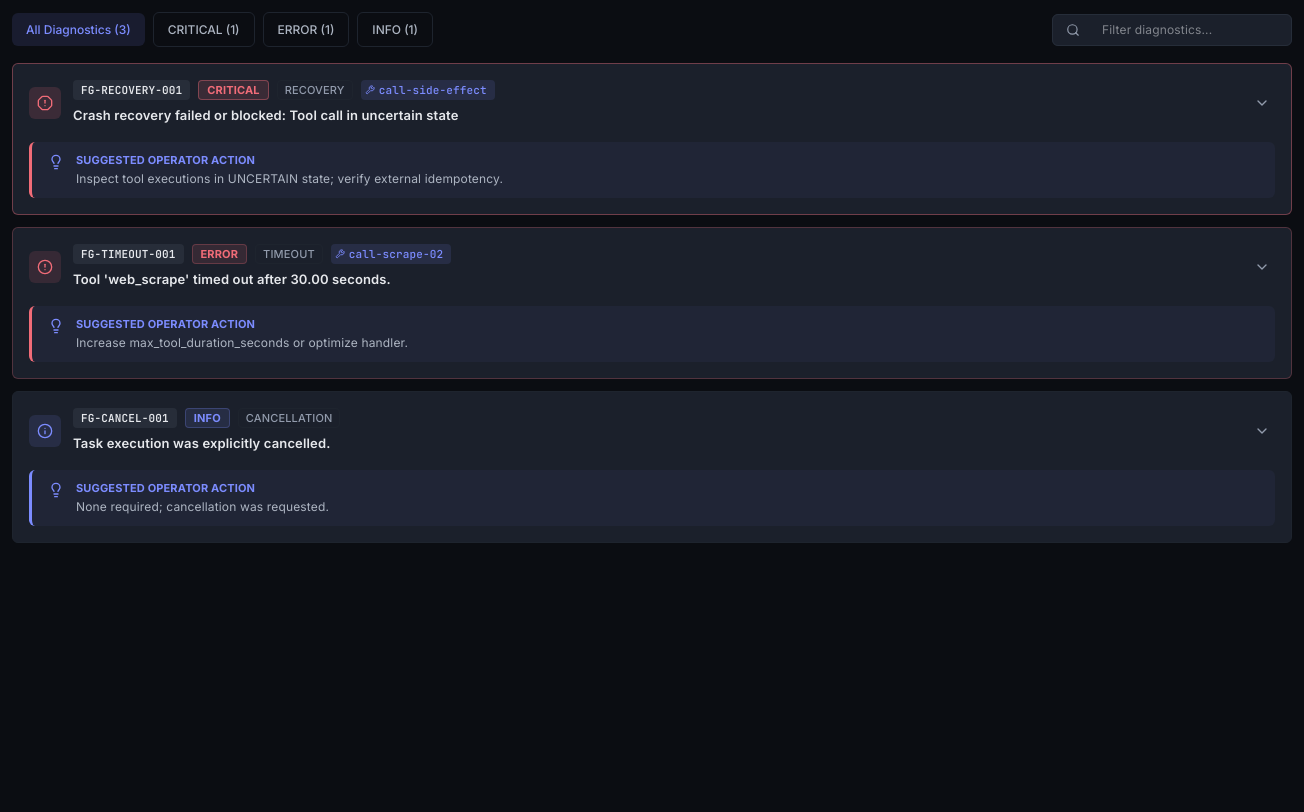
Test: FailureDiagnosticsCard Component › expands diagnostic payload forensics details upon click
Click the button named "Expand diagnostic details" in the row of "call-side-effect": (1262,103) [1249,90,1275,116]
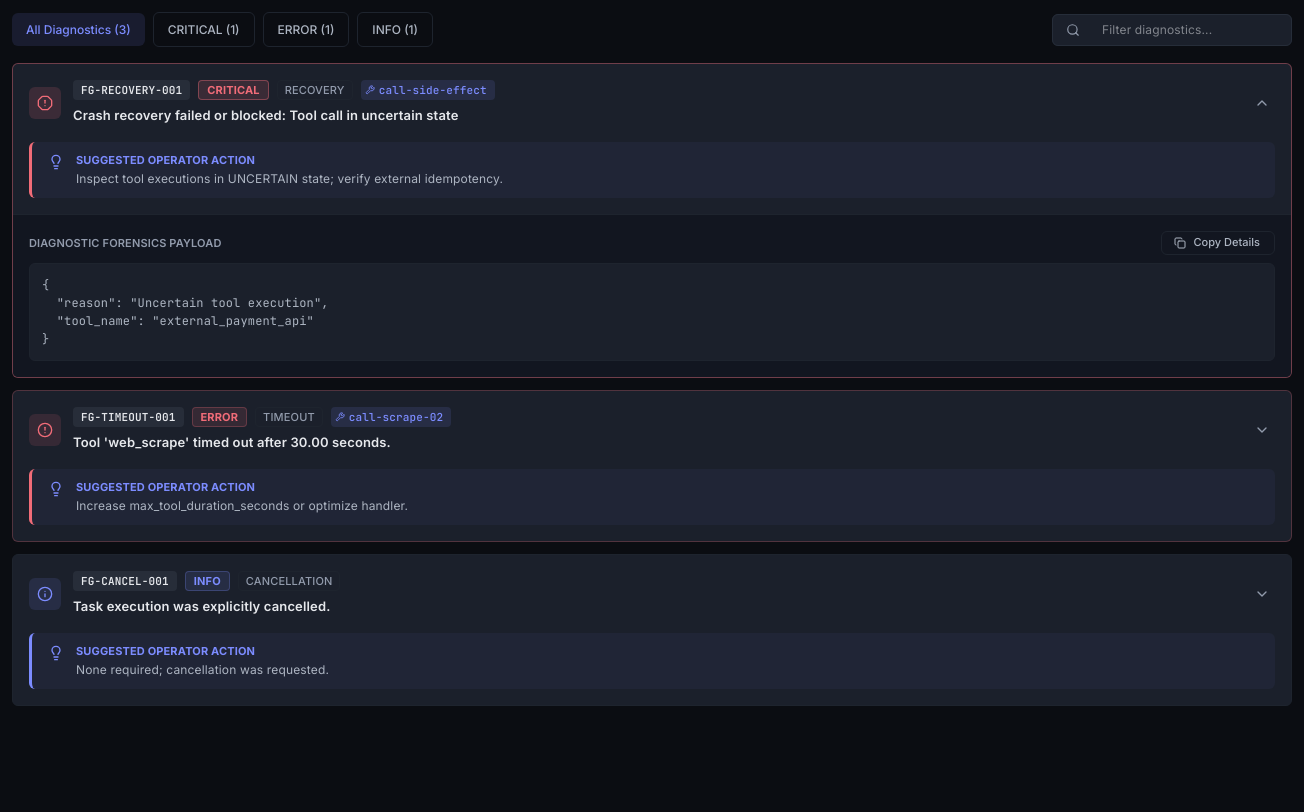
Expected: the text "Diagnostic Forensics Payload" is shown, [29,235,222,251]
Expected: the text "external_payment_api" is shown, [42,277,329,347]
Expected: the button "Copy Details" is shown, [1160,231,1275,255]
